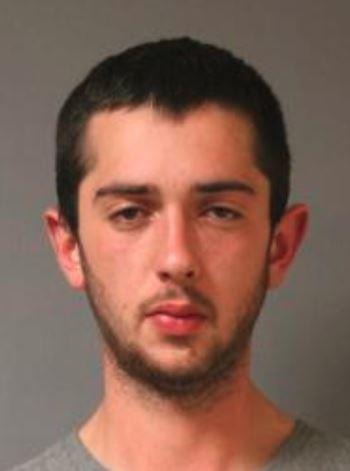Drunk: (91, 115, 267, 367)
